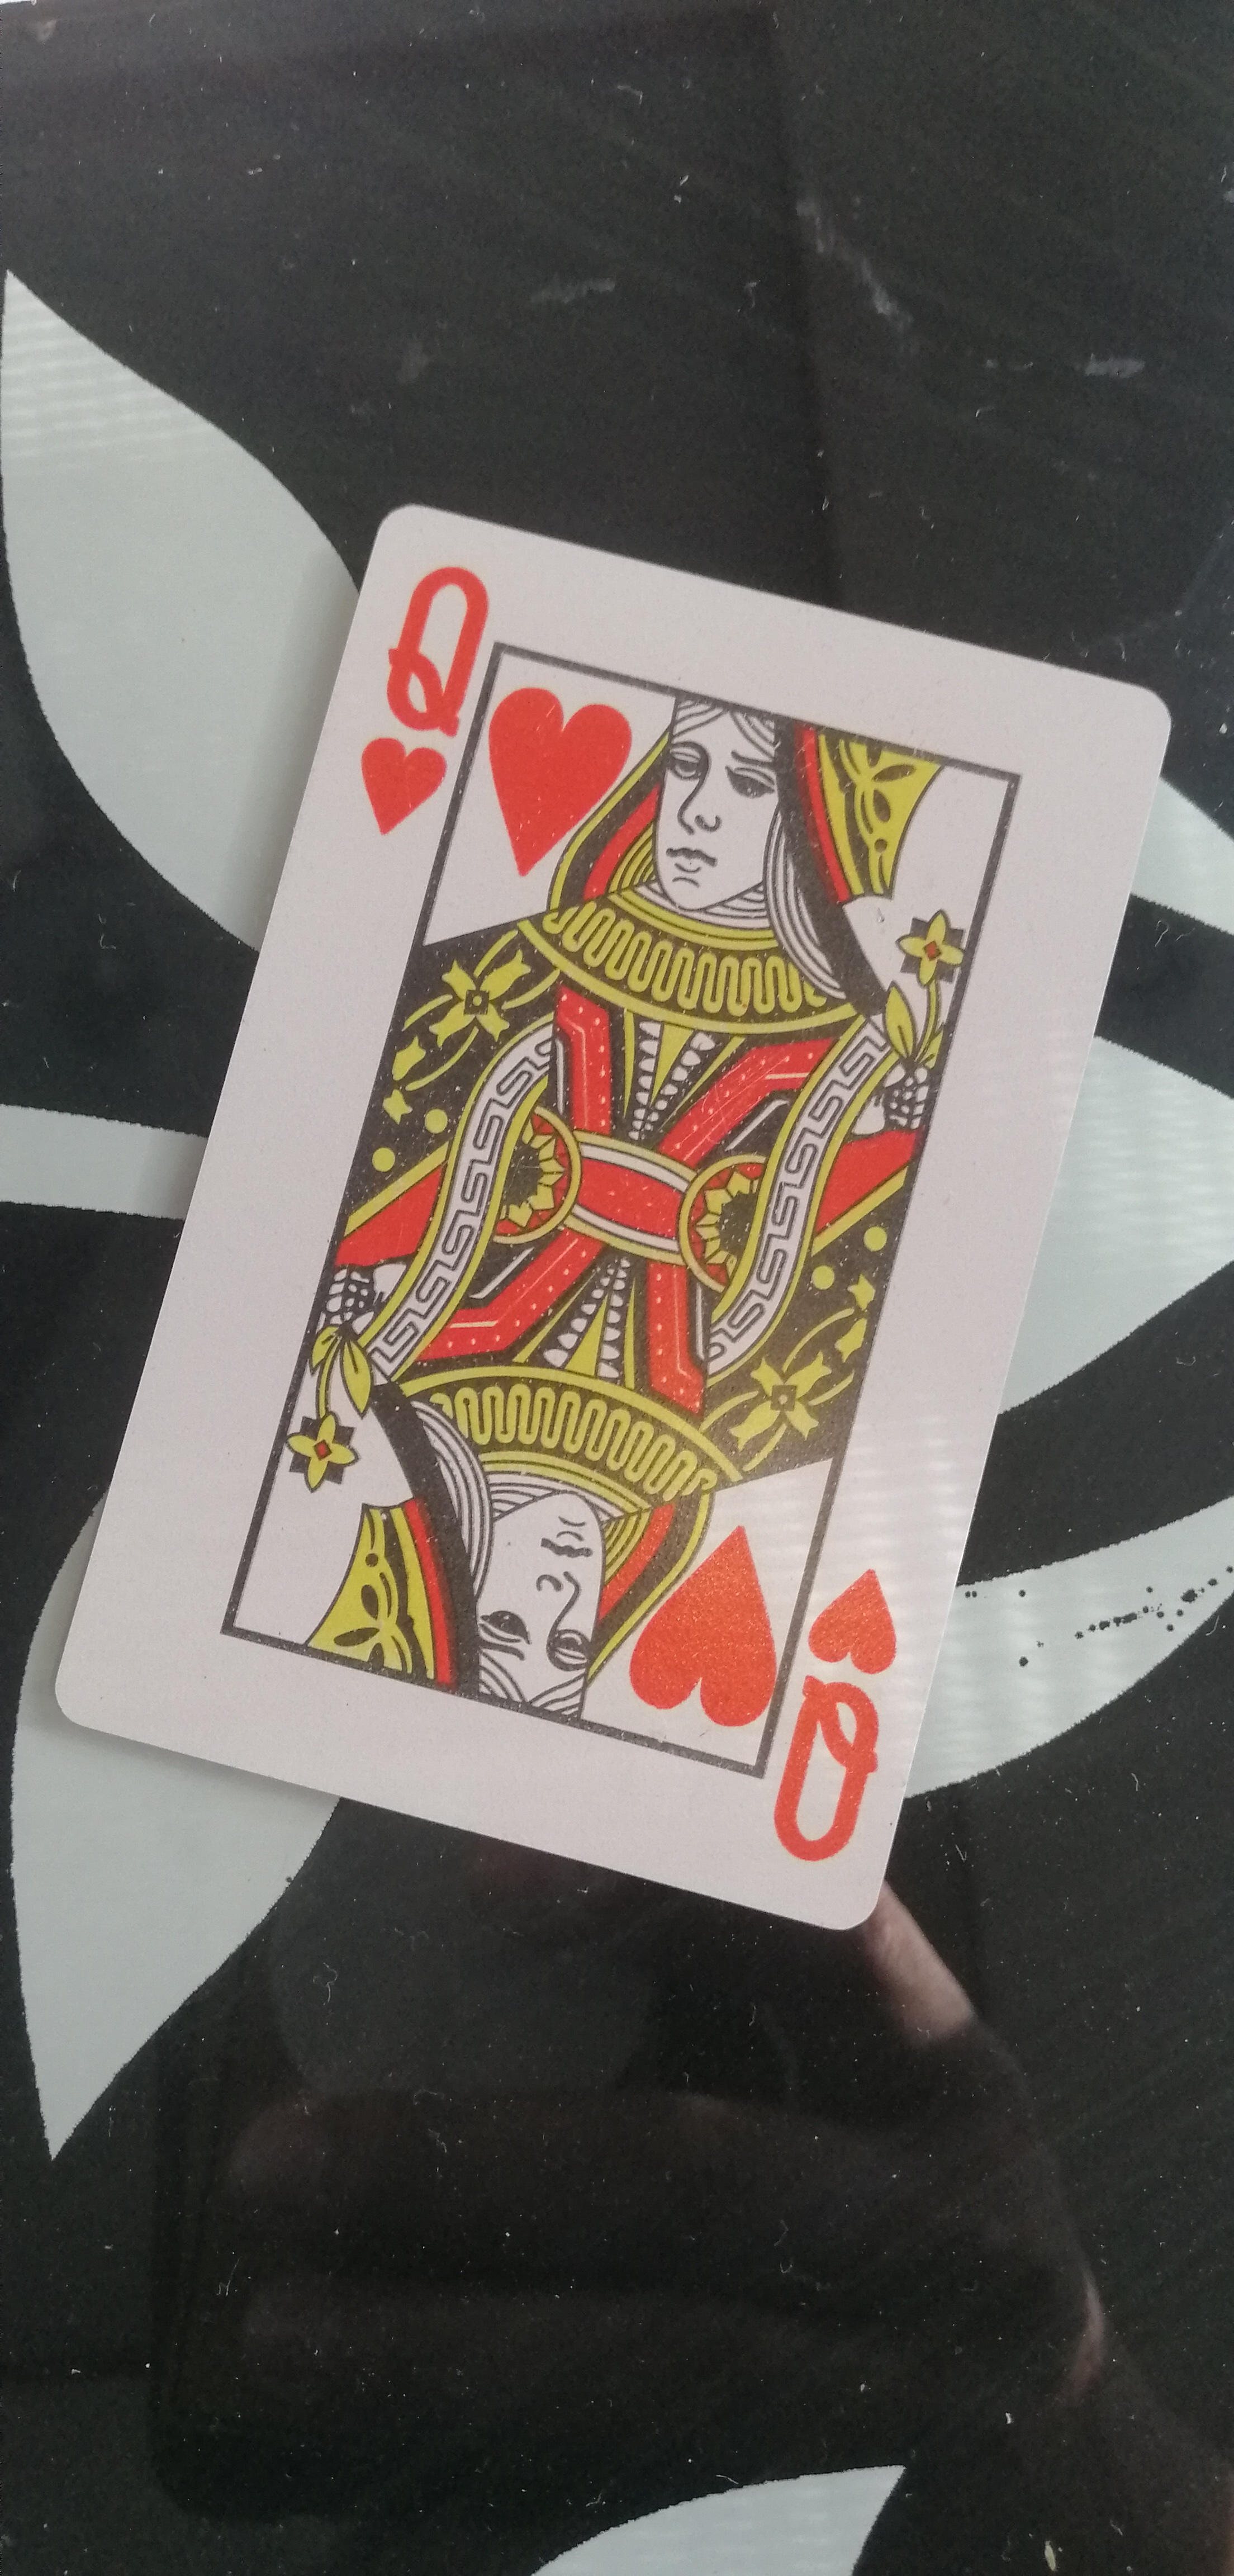queen: (56, 463, 1173, 1965)
